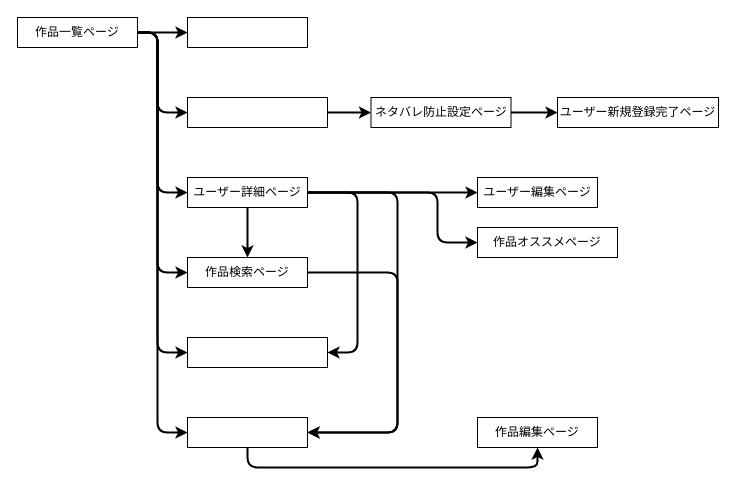
This 736x494 diagram has some shape labels left out. The shapes that lost their labels are listed below. From the top down, each one's box as (x1, y1, x2, y2) in pixels, then its label:
(186, 16, 308, 48): ログインページ
(186, 96, 328, 128): ユーザー新規登録ページ
(186, 336, 328, 368): 作品新規登録ページ
(186, 416, 308, 448): 作品詳細ページ
